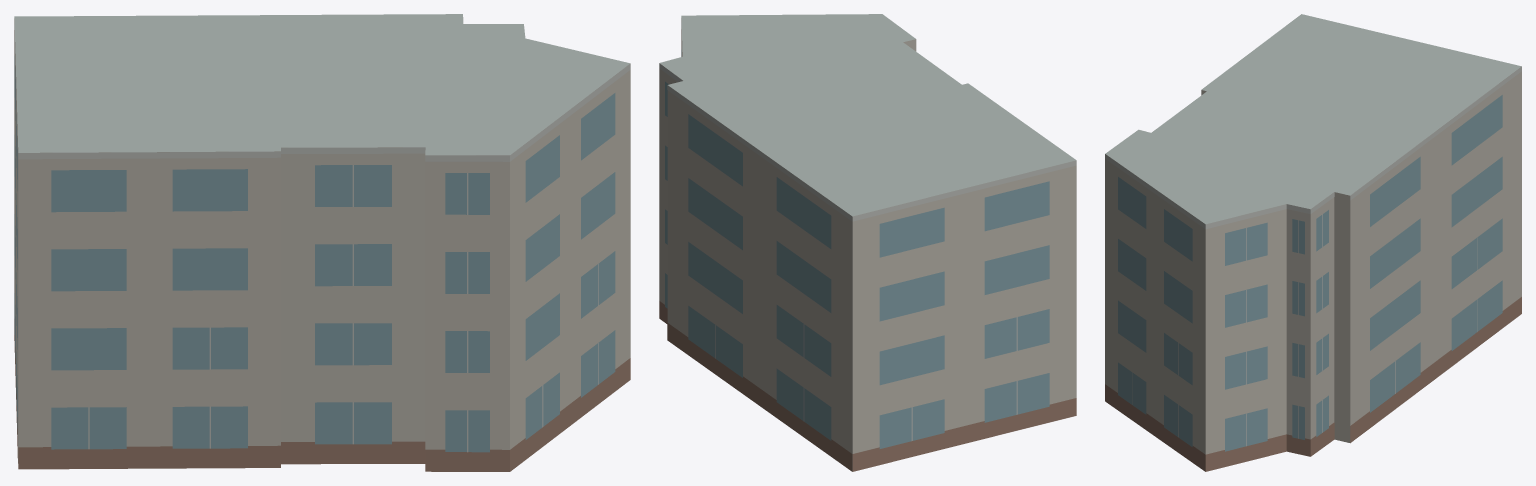
The model's file is survey-upis-32671253.glb.
The picture shows the model from 3 angles, left to right: view 1: azimuth 30°, elevation 25°; view 2: azimuth 150°, elevation 25°; view 3: azimuth 270°, elevation 25°; orthographic projection. The views are drawn at different scales.
Parts seen in each view (by area): view 1: survey-upis-32671253.tmp; view 2: survey-upis-32671253.tmp; view 3: survey-upis-32671253.tmp.
Part boxes in pixels (box(x1,y1,x2,y2)): survey-upis-32671253.tmp: box(14, 14, 630, 471); survey-upis-32671253.tmp: box(659, 14, 1076, 471); survey-upis-32671253.tmp: box(1105, 14, 1521, 471).
Size of the model in its own units: 22.06 by 12.1 by 18.47.
